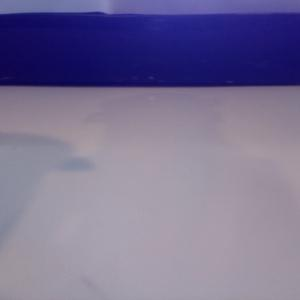zone: (1, 12, 300, 88)
